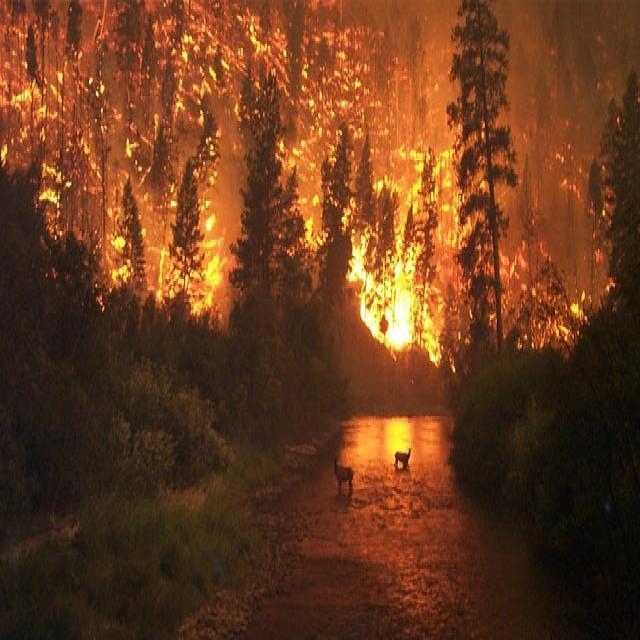Fire: (3, 8, 476, 214), (496, 247, 622, 359), (343, 222, 436, 358), (178, 182, 235, 318), (86, 198, 146, 308), (0, 4, 4, 8)
